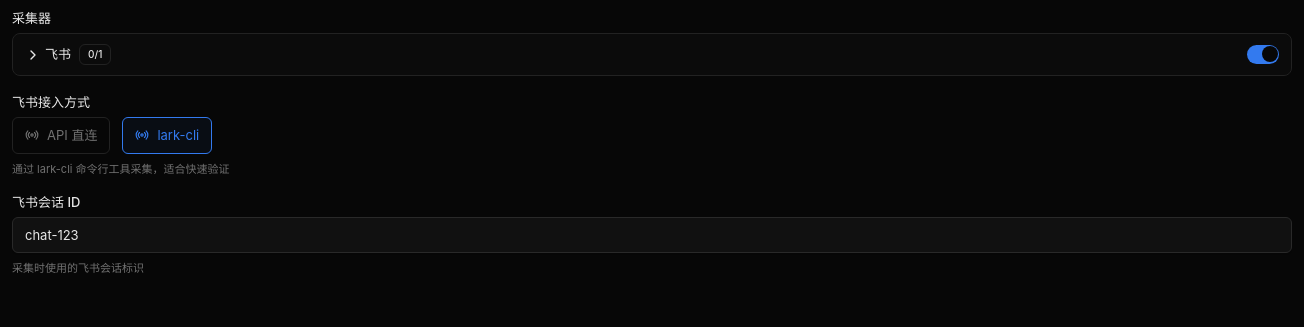
Test: CollectorSettings › shows 未启用 badge when collector is disabled
Click the button "飞书" at (48, 54), box [25,45,71,64]
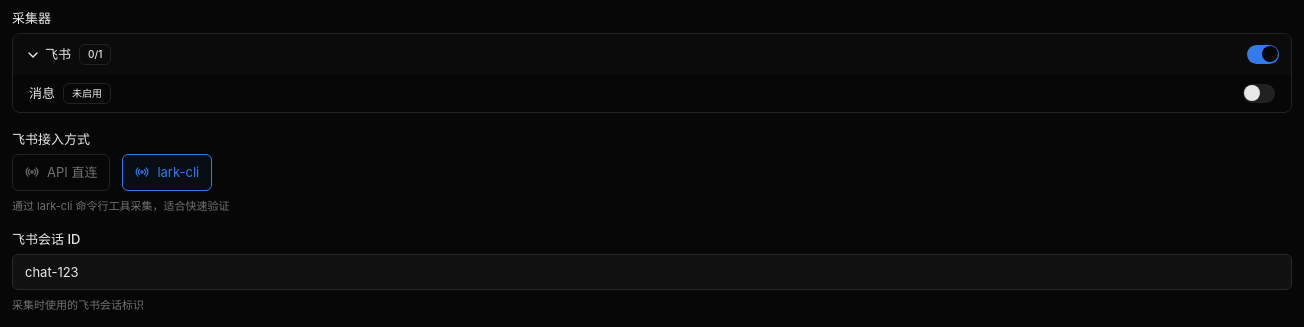
Expected: the text "未启用" is shown, [63,83,111,104]
